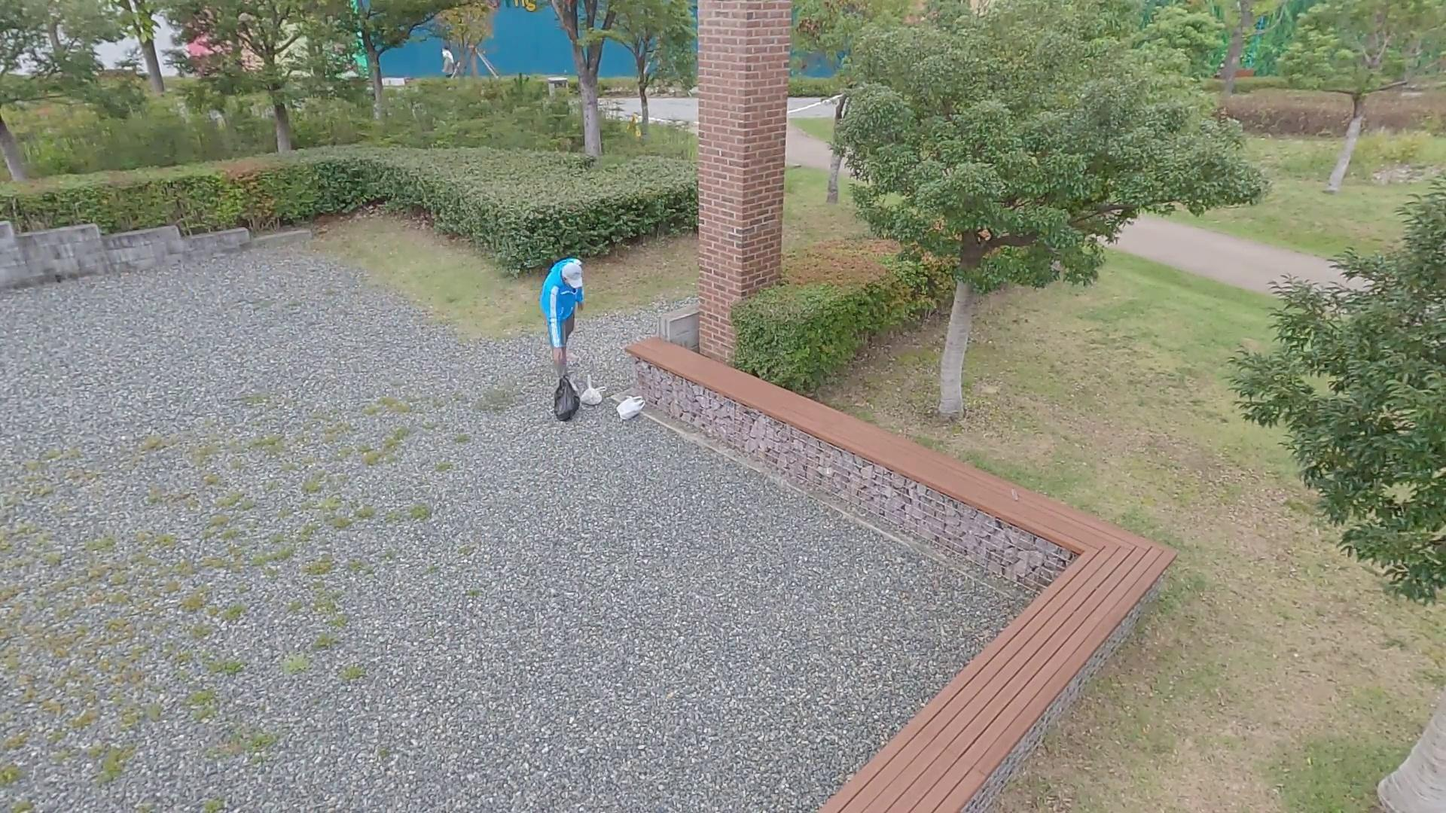person: (536, 253, 590, 390)
trash: (555, 379, 583, 423), (616, 390, 648, 423), (587, 384, 610, 407)
